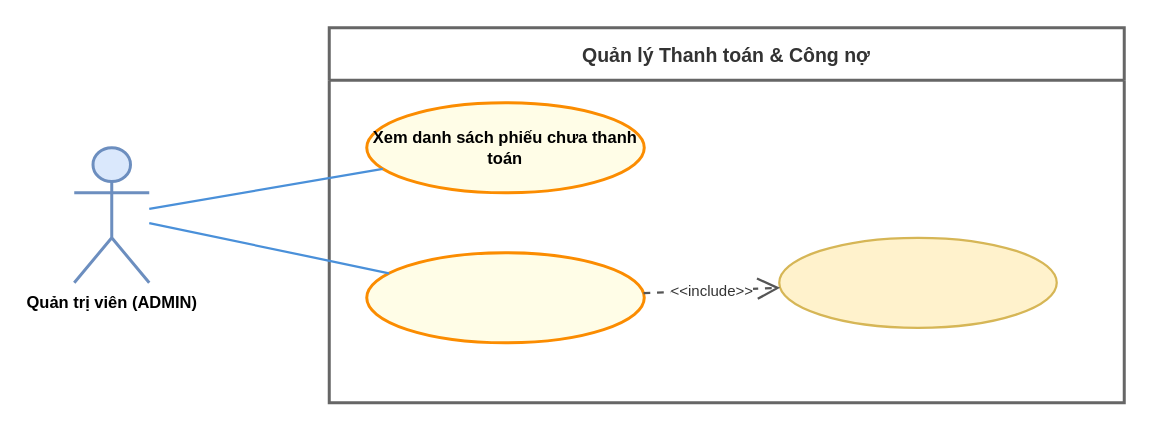
Image size: 1151x429. Some labels were removed from this diagram. The shapes that lost their labels are listed below. From the top down, each one's box as (x1, y1, x2, y2) in pixels, then its label:
(364, 250, 645, 344): Thực hiện thanh toán
(777, 236, 1057, 328): Giảm trừ công nợ của Khách hàng
